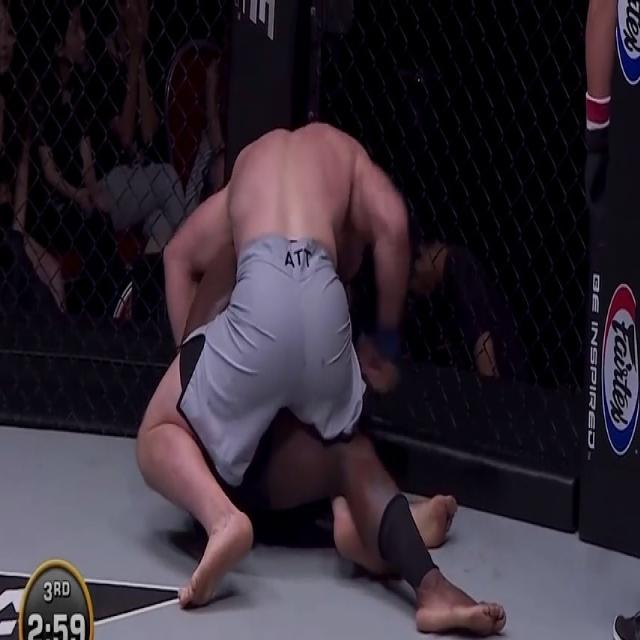fight: (115, 84, 468, 636)
